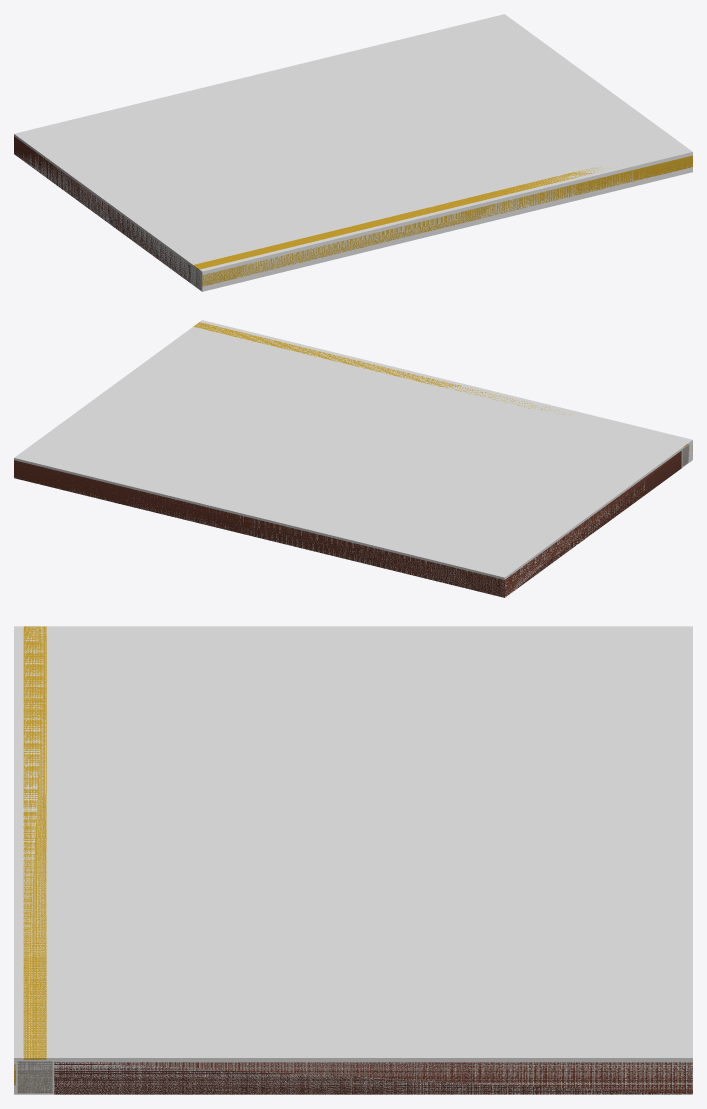
The model's file is KIT_SF_PaverStrip_YellowKerb_A.glb.
3 views of the same model, one above another, from view 1: azimuth 30°, elevation 25°; view 2: azimuth 150°, elevation 25°; view 3: azimuth 270°, elevation 25° (orthographic). The views are drawn at different scales.
Parts seen in each view (by area): view 1: KIT_SF_PaverStrip_YellowKerb_A_COL, KIT_SF_PaverStrip_YellowKerb_A; view 2: KIT_SF_PaverStrip_YellowKerb_A_COL, KIT_SF_PaverStrip_YellowKerb_A; view 3: KIT_SF_PaverStrip_YellowKerb_A_COL, KIT_SF_PaverStrip_YellowKerb_A.
Boxes of the visible parts, x1,y1,x2,y2 form: KIT_SF_PaverStrip_YellowKerb_A_COL: [14, 14, 692, 291]; KIT_SF_PaverStrip_YellowKerb_A: [14, 136, 692, 289]; KIT_SF_PaverStrip_YellowKerb_A_COL: [14, 320, 692, 596]; KIT_SF_PaverStrip_YellowKerb_A: [14, 322, 692, 597]; KIT_SF_PaverStrip_YellowKerb_A_COL: [14, 626, 692, 1094]; KIT_SF_PaverStrip_YellowKerb_A: [14, 626, 692, 1094].
Size of what is drawn, in the model's own units: 4 by 0.158 by 2.66.
